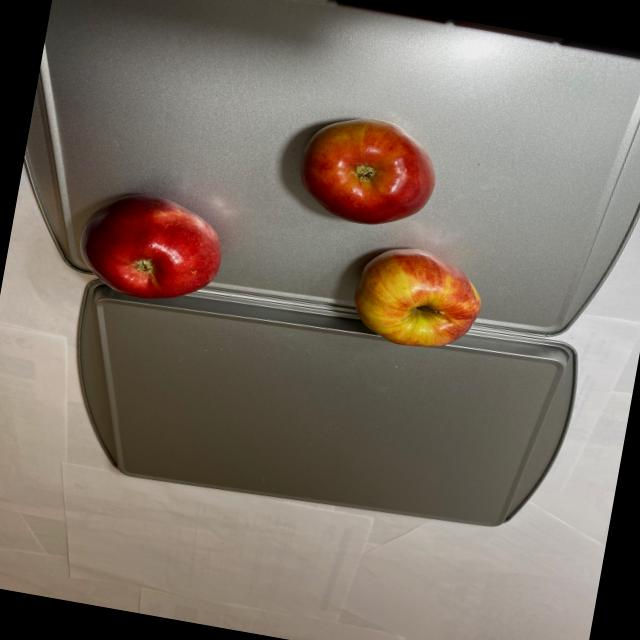apple: (269, 106, 513, 359), (68, 182, 236, 310)
